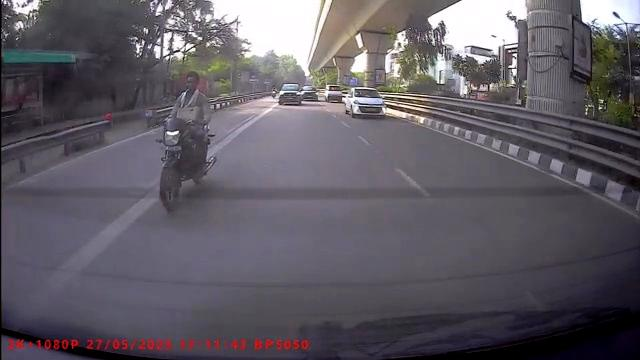motorcycle_without_helmet: (157, 71, 215, 213)
